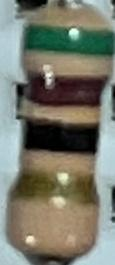Black: (20, 116, 102, 158)
Brown: (25, 68, 111, 108)
Green: (23, 23, 113, 60)
Side-Gold: (6, 173, 99, 206)
